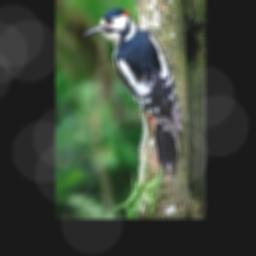Woodpecker: (83, 7, 182, 177)
